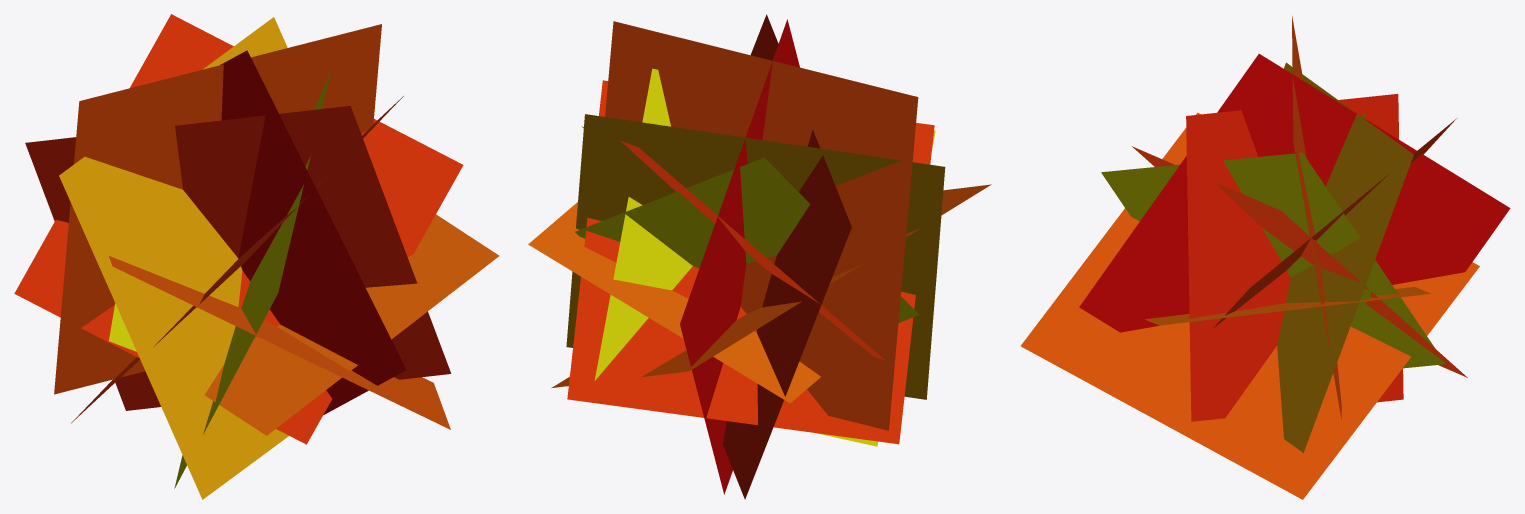
Rendered from Spark Mass.FBX.
The picture shows the model from 3 angles, left to right: view 1: azimuth 30°, elevation 25°; view 2: azimuth 150°, elevation 25°; view 3: azimuth 270°, elevation 25°; orthographic projection. The views are drawn at different scales.
Visible parts, largest first — view 1: Plane001; view 2: Plane001; view 3: Plane001.
Boxes of the visible parts, box(x1,y1,x2,y2) form: Plane001: box(14, 14, 499, 499); Plane001: box(528, 14, 991, 499); Plane001: box(1020, 16, 1510, 499).
Size of the model in its own units: 40 by 44.91 by 50.02.
